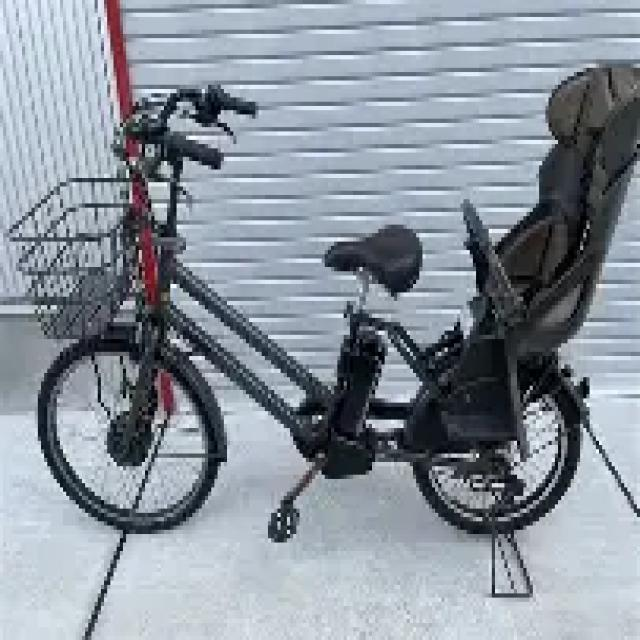basket: (6, 172, 146, 333)
battery: (328, 332, 384, 436)
childseat: (427, 61, 640, 451)
